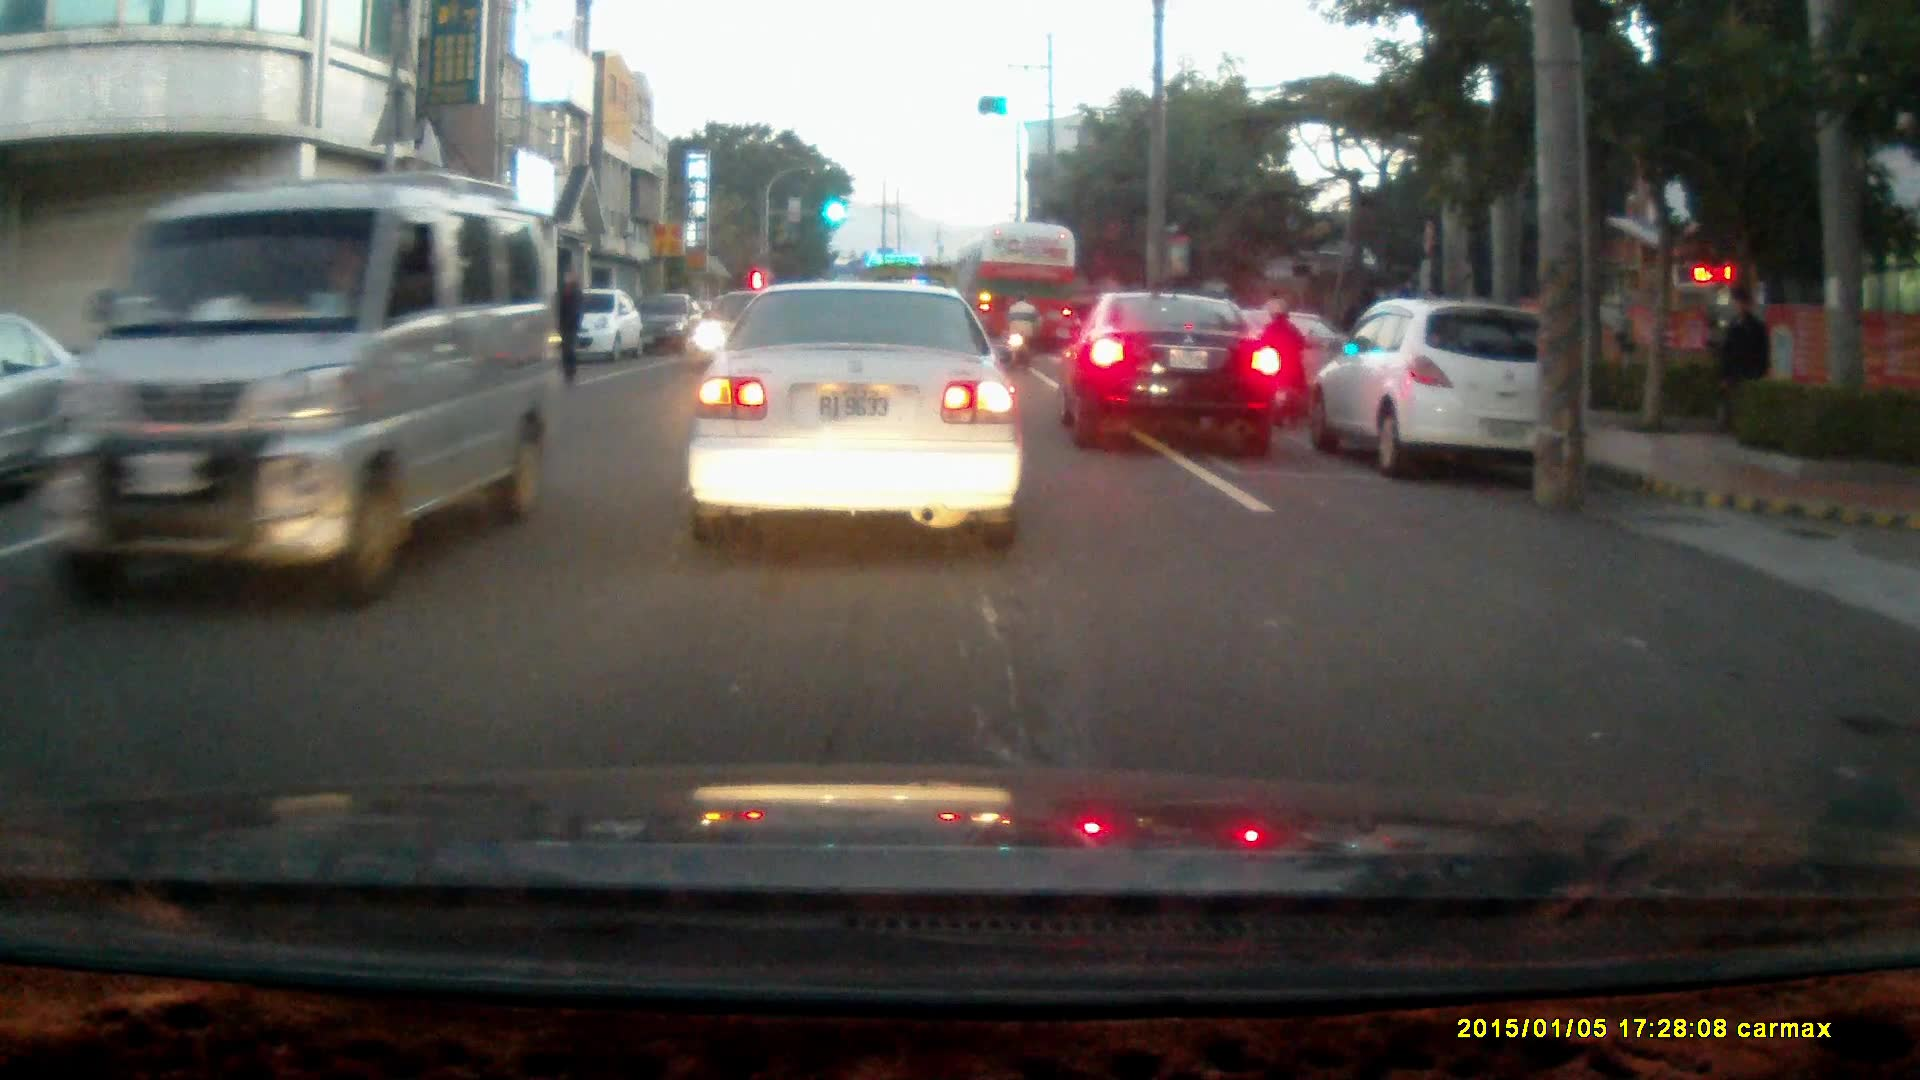pedestrian: (1715, 288, 1773, 448), (548, 263, 584, 391)
rider: (1260, 299, 1315, 433), (1003, 290, 1043, 371)
vehicle: (80, 174, 551, 612), (680, 281, 1028, 555), (1302, 296, 1581, 484), (1059, 293, 1288, 460), (966, 222, 1082, 361), (542, 288, 641, 363)
